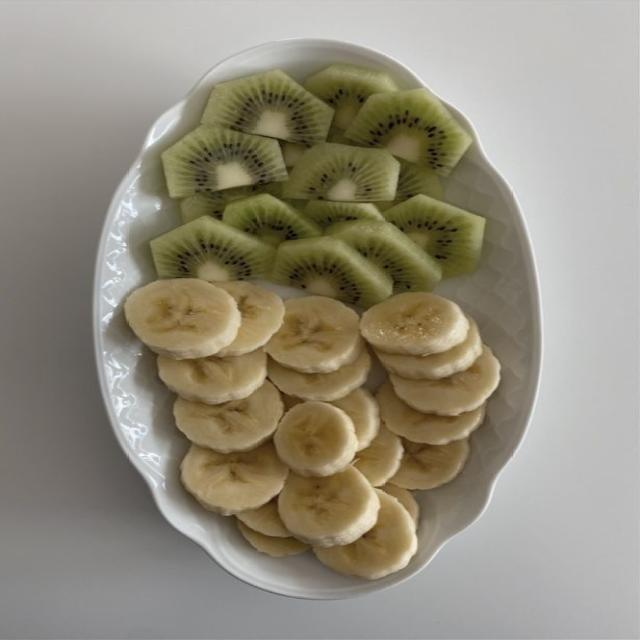banana slice: (124, 279, 240, 359), (315, 490, 417, 579), (278, 467, 379, 547), (174, 381, 284, 453), (182, 442, 288, 515), (390, 346, 500, 415), (266, 296, 362, 373), (376, 380, 485, 444), (361, 292, 469, 355), (376, 317, 482, 379), (274, 402, 357, 476), (158, 350, 266, 404), (268, 349, 371, 401), (216, 281, 284, 356), (391, 439, 469, 489), (355, 423, 403, 486), (331, 388, 379, 450), (238, 520, 310, 557), (237, 498, 291, 537), (380, 483, 419, 527), (281, 394, 305, 411)
kiwi: (344, 88, 470, 175), (200, 70, 332, 144), (161, 125, 287, 198), (383, 194, 485, 278), (272, 236, 390, 307), (328, 220, 440, 293), (151, 217, 274, 281), (284, 142, 400, 201), (305, 63, 398, 128), (223, 194, 322, 245), (179, 183, 281, 223), (374, 161, 443, 210), (304, 201, 383, 227)
